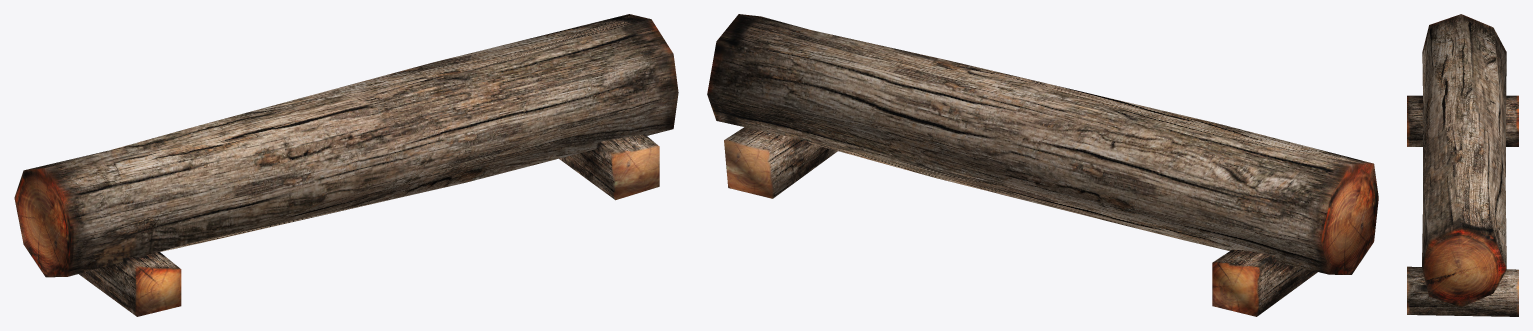
Rendered from bench-variant-2.dae.
3 renders of one model, left to right at view 1: azimuth 30°, elevation 25°; view 2: azimuth 150°, elevation 25°; view 3: azimuth 270°, elevation 25°, orthographic. The views are drawn at different scales.
Visible parts, largest first — view 1: Fountain01_000, Fountain01_004; view 2: Fountain01_000, Fountain01_004; view 3: Fountain01_000, Fountain01_004.
Boxes of the visible parts, x1,y1,x2,y2 form: Fountain01_000: (14,14,678,277); Fountain01_004: (79,134,659,316); Fountain01_000: (707,14,1378,274); Fountain01_004: (724,127,1317,316); Fountain01_000: (1422,14,1506,307); Fountain01_004: (1407,95,1518,316).
Bounding box in the file's own units: 2.48 × 0.5437 × 0.5308.
1 material, 1 textured.
